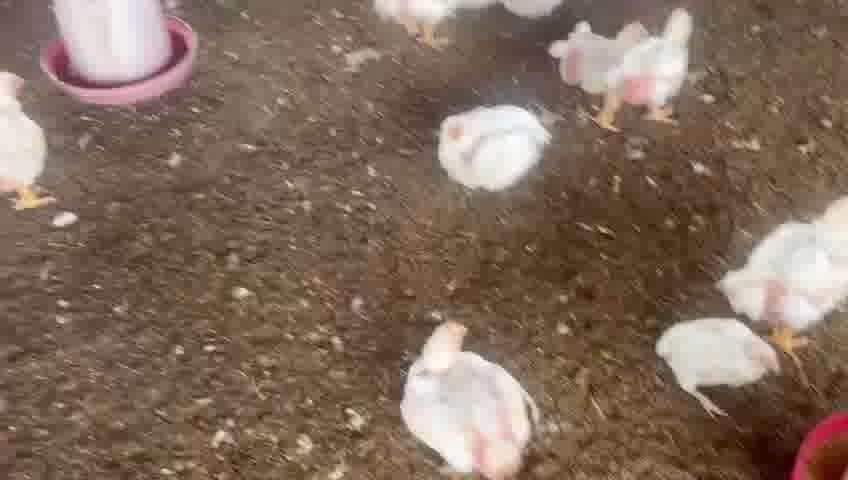AbNormal: (638, 289, 792, 423)
Normal: (401, 320, 546, 476), (729, 178, 848, 336), (429, 93, 550, 199), (621, 4, 706, 126), (556, 22, 658, 92)
